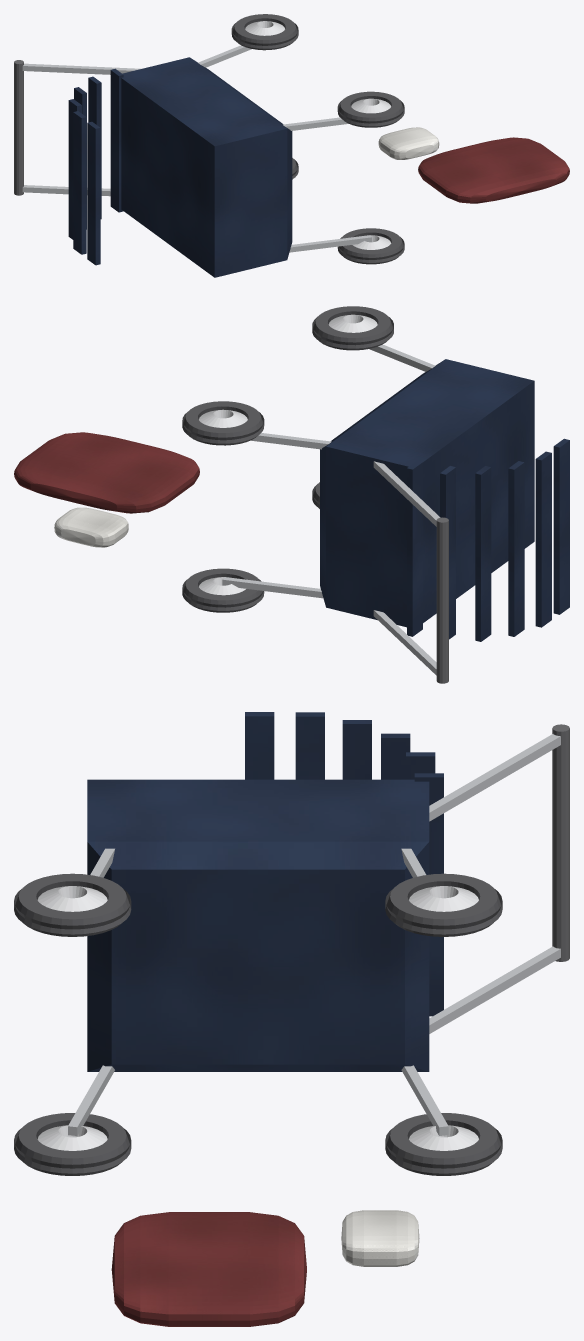
The model's file is carrinho_bebe.glb.
The picture shows the model from 3 angles, top to bottom: view 1: azimuth 30°, elevation 25°; view 2: azimuth 150°, elevation 25°; view 3: azimuth 270°, elevation 25°; orthographic projection. The views are drawn at different scales.
Visible parts, largest first — view 1: carrinho_bebe_tecido_carrinho, carrinho_bebe_cobertor, carrinho_bebe_borracha, carrinho_bebe_aco, carrinho_bebe_travesseiro, carrinho_bebe_plastico_preto, carrinho_bebe_cromo; view 2: carrinho_bebe_tecido_carrinho, carrinho_bebe_cobertor, carrinho_bebe_borracha, carrinho_bebe_aco, carrinho_bebe_travesseiro, carrinho_bebe_plastico_preto, carrinho_bebe_cromo; view 3: carrinho_bebe_tecido_carrinho, carrinho_bebe_cobertor, carrinho_bebe_borracha, carrinho_bebe_aco, carrinho_bebe_cromo, carrinho_bebe_travesseiro, carrinho_bebe_plastico_preto.
Part boxes in pixels (<box>): carrinho_bebe_tecido_carrinho: <box>68,57,292,277</box>; carrinho_bebe_cobertor: <box>418,137,569,203</box>; carrinho_bebe_borracha: <box>231,14,404,264</box>; carrinho_bebe_aco: <box>22,45,371,252</box>; carrinho_bebe_travesseiro: <box>378,127,439,159</box>; carrinho_bebe_plastico_preto: <box>14,60,23,195</box>; carrinho_bebe_cromo: <box>245,21,391,249</box>; carrinho_bebe_tecido_carrinho: <box>320,359,569,641</box>; carrinho_bebe_cobertor: <box>14,432,199,513</box>; carrinho_bebe_borracha: <box>182,306,393,612</box>; carrinho_bebe_aco: <box>222,344,440,675</box>; carrinho_bebe_travesseiro: <box>54,507,128,547</box>; carrinho_bebe_plastico_preto: <box>436,517,448,683</box>; carrinho_bebe_cromo: <box>198,314,377,595</box>; carrinho_bebe_tecido_carrinho: <box>87,712,443,1071</box>; carrinho_bebe_cobertor: <box>111,1212,306,1326</box>; carrinho_bebe_borracha: <box>14,873,502,1175</box>; carrinho_bebe_aco: <box>68,734,560,1135</box>; carrinho_bebe_cromo: <box>37,886,478,1150</box>; carrinho_bebe_travesseiro: <box>341,1210,419,1266</box>; carrinho_bebe_plastico_preto: <box>552,724,569,961</box>.
Size of the model in its own units: 1.85 by 0.6 by 1.14.
Materials: 7 (3 with a texture image).
